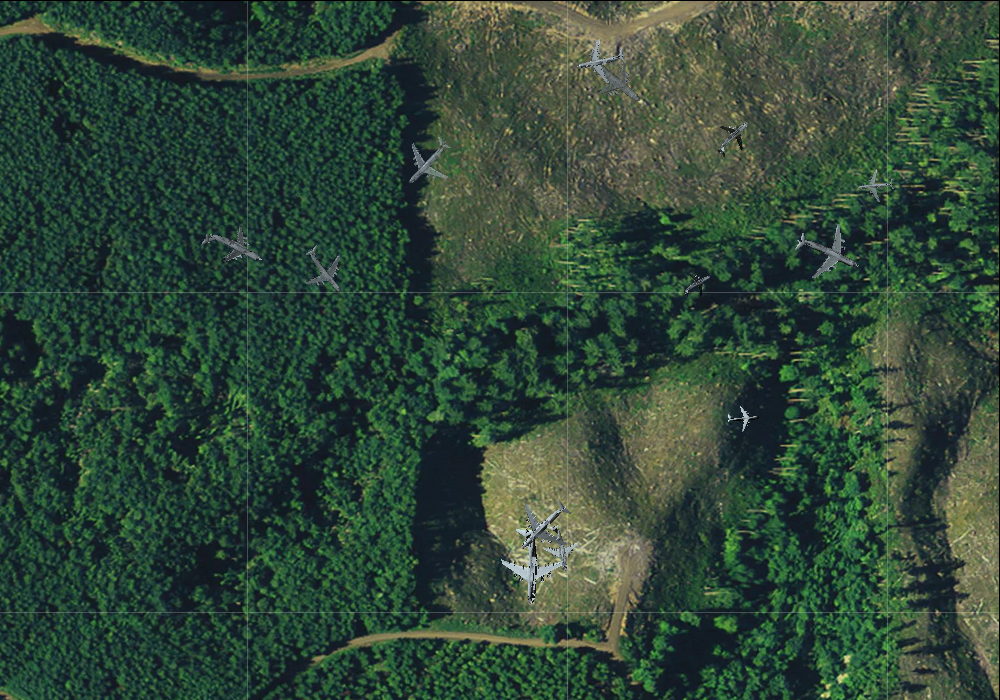plane: (569, 30, 661, 120), (784, 209, 872, 296), (501, 484, 586, 569), (192, 210, 271, 285), (389, 123, 465, 200), (492, 526, 566, 605), (289, 234, 361, 306), (571, 32, 630, 88), (705, 109, 762, 166), (534, 521, 584, 575), (676, 264, 718, 305), (857, 167, 895, 203), (726, 401, 759, 433)
